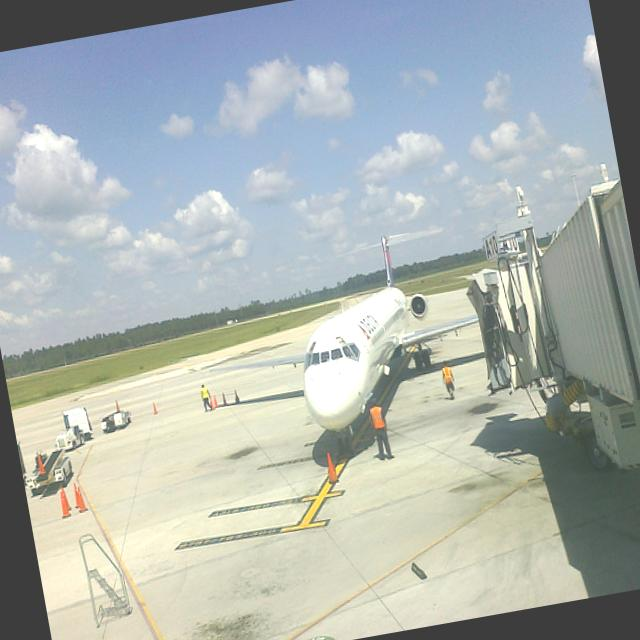Vehicle: (24, 444, 76, 494), (48, 405, 96, 453), (112, 410, 132, 430)
